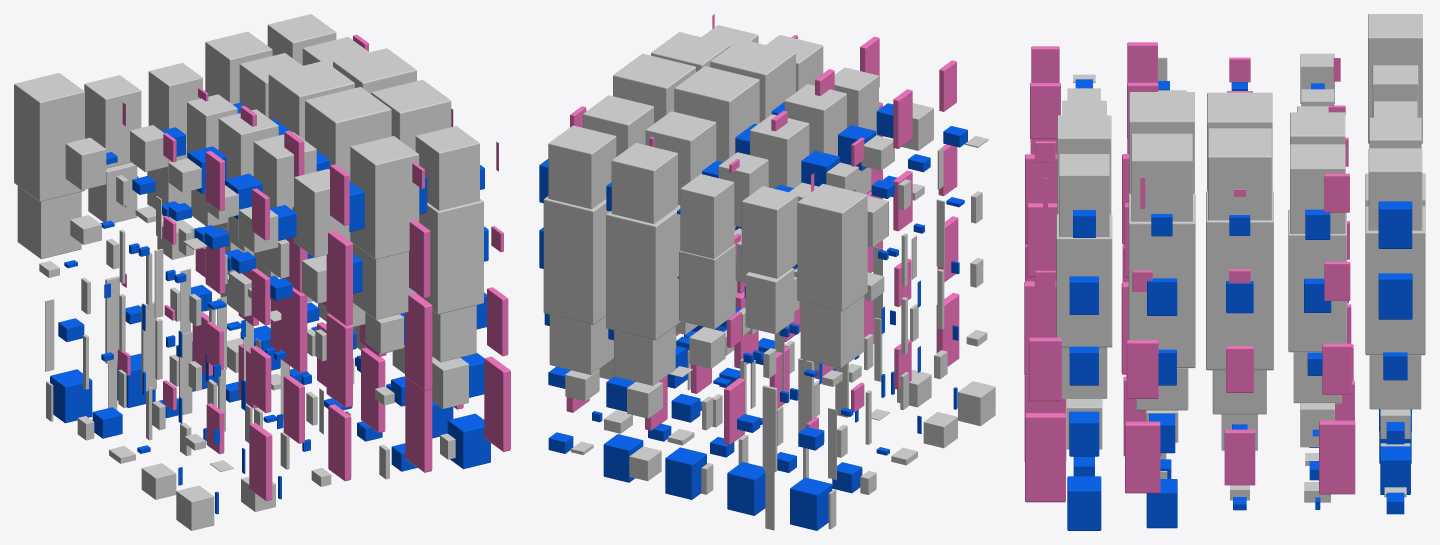
File: cloner_cube_simple_copy.glb
3 views of the same model, side by side, from view 1: azimuth 30°, elevation 25°; view 2: azimuth 150°, elevation 25°; view 3: azimuth 270°, elevation 25° (orthographic). The views are drawn at different scales.
Visible parts, largest first — view 1: object 213, object 292, object 312, object 291, object 317, object 238, object 208, object 290, object 316, object 287, object 267, object 288 (+66 smaller); view 2: object 283, object 213, object 308, object 290, object 238, object 313, object 288, object 263, object 258, object 208, object 291, object 289 (+53 smaller); view 3: object 310, object 311, object 315, object 308, object 312, object 316, object 309, object 55, object 314, object 317, object 313, object 213 (+57 smaller).
Boxes of the visible parts, <box> form: object 213: <box>14,73,84,201</box>; object 292: <box>350,136,419,259</box>; object 312: <box>416,199,483,314</box>; object 291: <box>305,87,391,241</box>; object 317: <box>415,126,479,210</box>; object 238: <box>84,75,141,168</box>; object 208: <box>17,186,81,259</box>; object 290: <box>268,61,354,139</box>; object 316: <box>371,80,451,151</box>; object 287: <box>353,243,416,319</box>; object 267: <box>294,169,349,257</box>; object 288: <box>205,31,272,104</box>; object 283: <box>606,205,681,340</box>; object 213: <box>797,184,867,311</box>; object 308: <box>543,196,609,324</box>; object 290: <box>674,66,759,227</box>; object 238: <box>741,186,798,278</box>; object 313: <box>548,125,616,209</box>; object 288: <box>611,143,677,223</box>; object 263: <box>680,174,734,258</box>; object 258: <box>679,244,735,329</box>; object 208: <box>800,295,864,368</box>; object 291: <box>710,39,795,122</box>; object 289: <box>645,111,716,205</box>; object 310: <box>1206,191,1273,370</box>; object 311: <box>1128,193,1195,368</box>; object 315: <box>1208,128,1271,220</box>; object 308: <box>1365,206,1425,355</box>; object 312: <box>1056,214,1112,347</box>; object 316: <box>1131,133,1192,221</box>; object 309: <box>1288,209,1346,352</box>; object 55: <box>1025,413,1065,502</box>; object 314: <box>1290,144,1345,233</box>; object 317: <box>1059,154,1109,236</box>; object 313: <box>1368,148,1422,230</box>; object 213: <box>1368,14,1422,143</box>.
Bounding box in the file's own units: 4.44 × 4.99 × 4.64.
